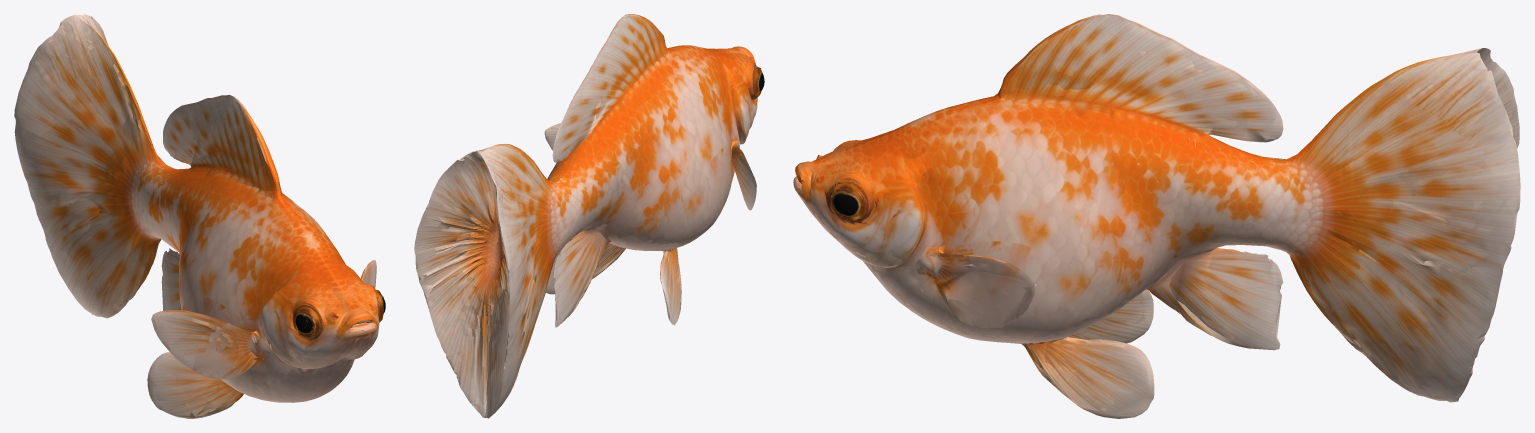
Rendered from molly.glb.
3 renders of one model, left to right at view 1: azimuth 30°, elevation 25°; view 2: azimuth 150°, elevation 25°; view 3: azimuth 270°, elevation 25°, orthographic. The views are drawn at different scales.
Parts seen in each view (by area): view 1: molly_body, molly_fins, molly_fins_low, molly_body_low; view 2: molly_fins, molly_body, molly_fins_low, molly_body_low; view 3: molly_body, molly_fins, molly_fins_low, molly_body_low.
Part boxes in pixels (x1=…): molly_body: x1=136, y1=94, x2=385, y2=410; molly_fins: x1=14, y1=14, x2=376, y2=418; molly_fins_low: x1=14, y1=14, x2=375, y2=418; molly_body_low: x1=133, y1=95, x2=384, y2=402; molly_fins: x1=414, y1=14, x2=754, y2=418; molly_body: x1=544, y1=14, x2=764, y2=327; molly_fins_low: x1=414, y1=15, x2=745, y2=418; molly_body_low: x1=544, y1=21, x2=761, y2=322; molly_body: x1=793, y1=14, x2=1305, y2=403; molly_fins: x1=934, y1=14, x2=1520, y2=418; molly_fins_low: x1=934, y1=14, x2=1519, y2=418; molly_body_low: x1=793, y1=44, x2=1321, y2=385.
Bounding box in the file's own units: 0.6359 × 0.8682 × 1.47.
Materials: 2 (2 with a texture image).
